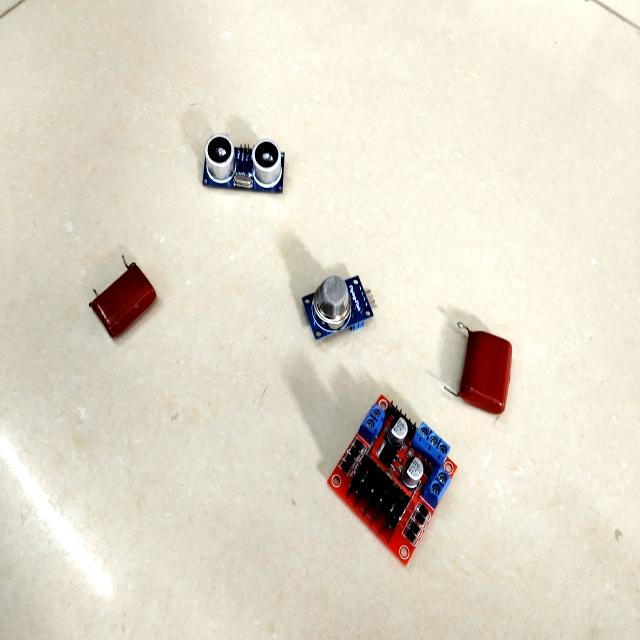capacitor: (92, 268, 156, 337), (460, 331, 512, 415)
